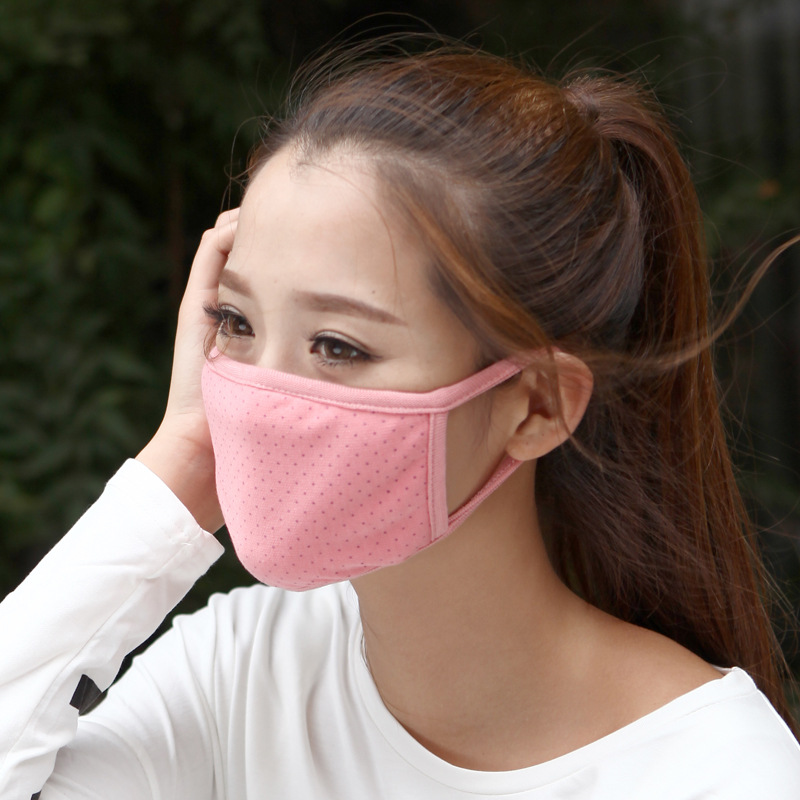face_mask: (196, 146, 482, 588)
